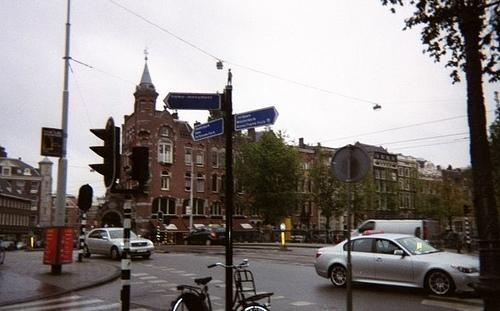bicycle: (172, 258, 273, 311)
car: (316, 232, 481, 297), (85, 226, 156, 260), (184, 226, 226, 246), (0, 240, 15, 252)
truck: (350, 219, 421, 238)
